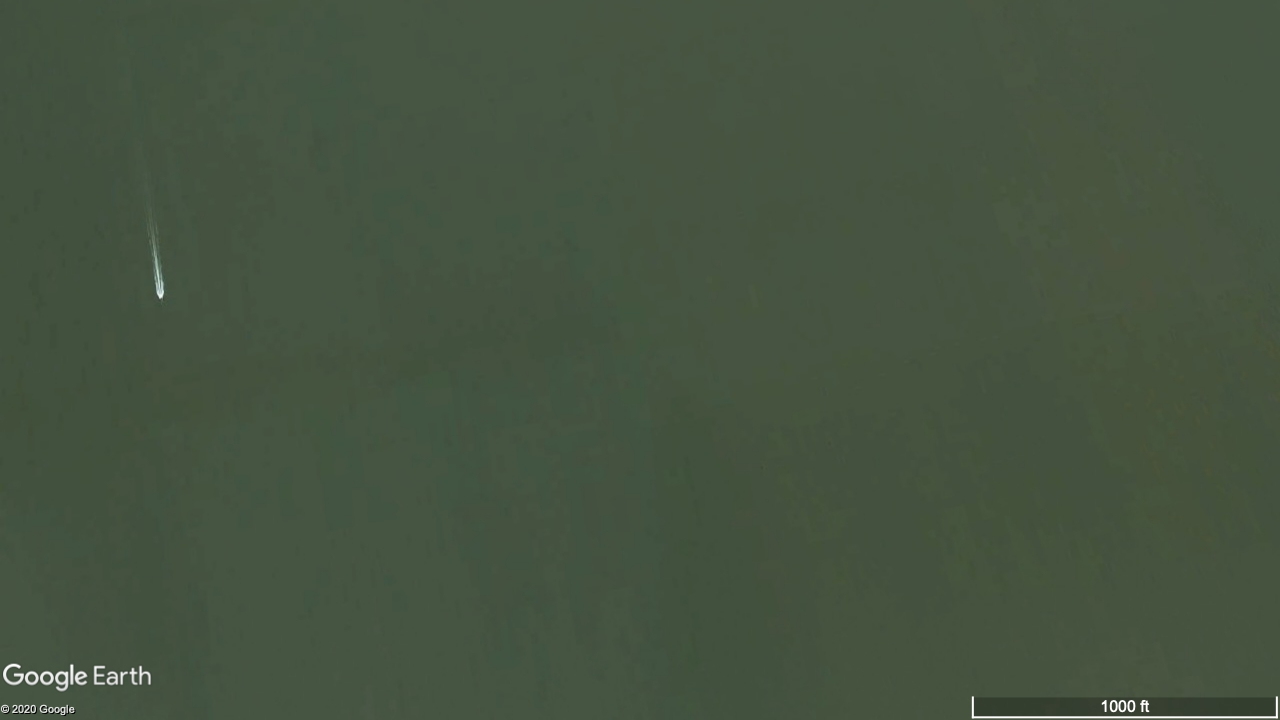boat: (157, 291, 164, 300)
